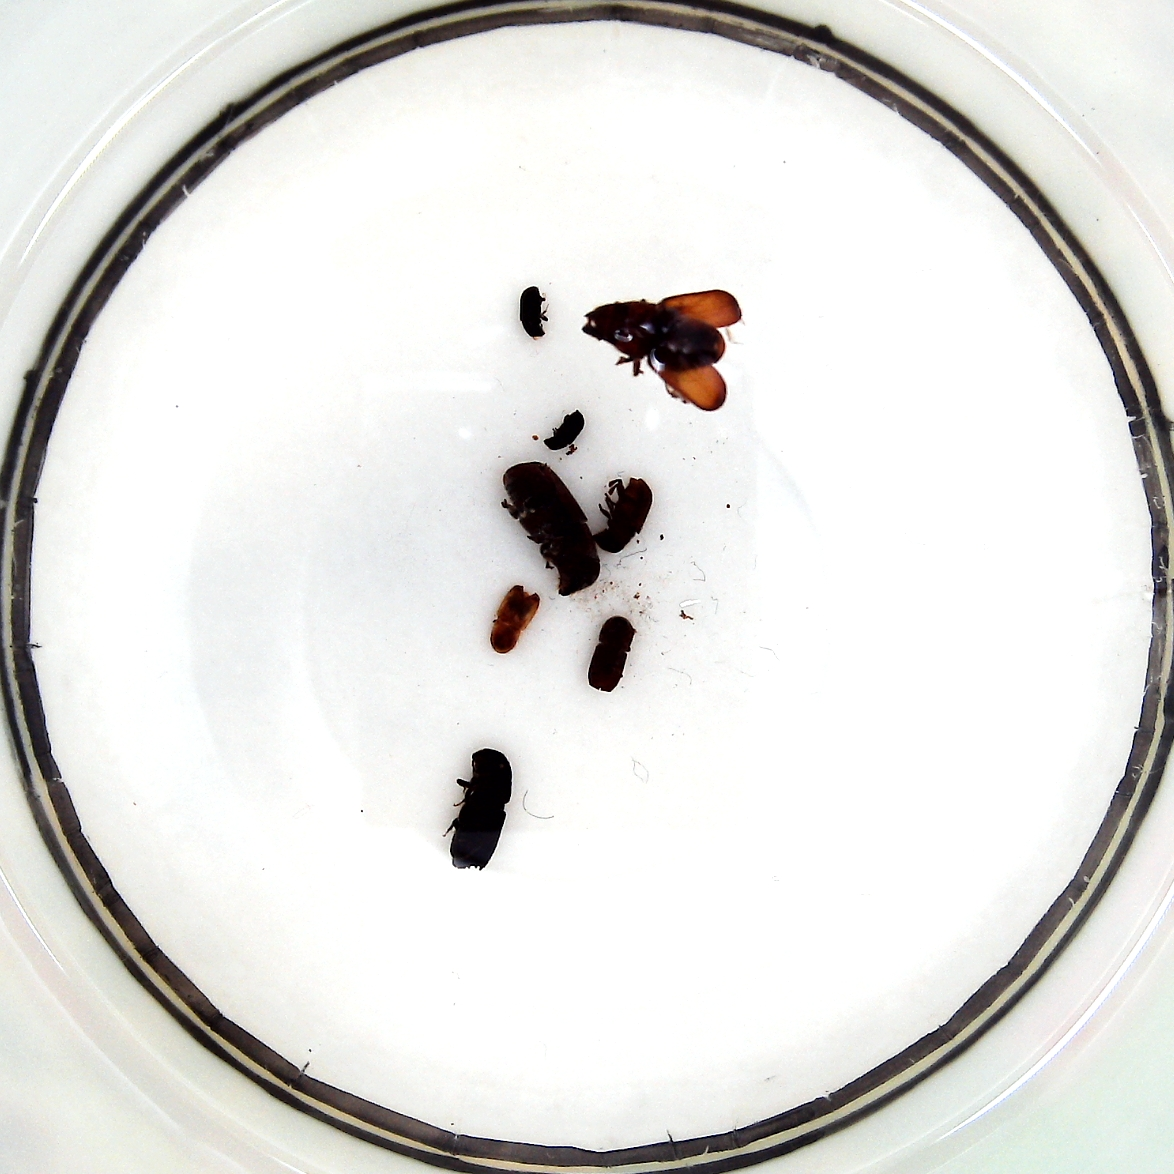Boerner: (436, 744, 516, 870)
Leconte: (579, 288, 743, 411), (500, 460, 600, 593)
Linnaeus: (585, 611, 638, 695)
acuminatus: (487, 582, 543, 656)
armandi: (593, 475, 654, 554)
coleoptera: (542, 407, 584, 455), (514, 287, 552, 340)
